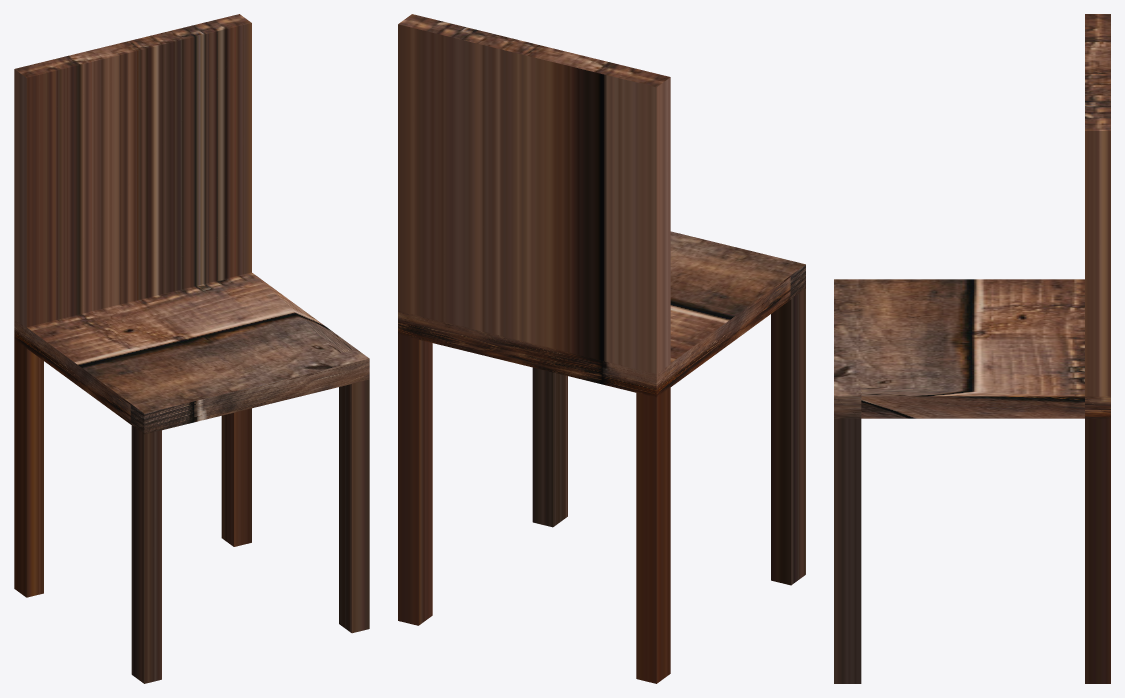
Rendered from CHAIR.glb.
3 renders of one model, left to right at view 1: azimuth 30°, elevation 25°; view 2: azimuth 150°, elevation 25°; view 3: azimuth 270°, elevation 25°, orthographic. The views are drawn at different scales.
Visible parts, largest first — view 1: Cube; view 2: Cube; view 3: Cube.
Boxes of the visible parts, box(x1,y1,x2,y2) form: Cube: box(14, 14, 369, 683); Cube: box(398, 14, 805, 683); Cube: box(834, 14, 1110, 683).
Size of the model in its own units: 2 by 4.41 by 2.
Materials: 1 (1 with a texture image).
